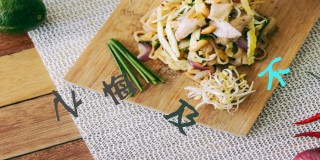不: (257, 57, 291, 90)
之: (50, 88, 83, 121)
及: (162, 99, 200, 137)
悔: (102, 74, 134, 104)
